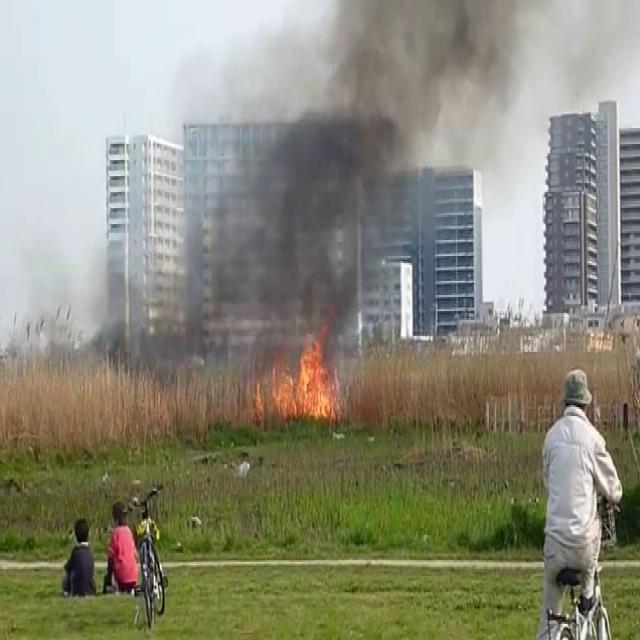Fire: (259, 322, 343, 426)
Smoke: (192, 0, 534, 370)
